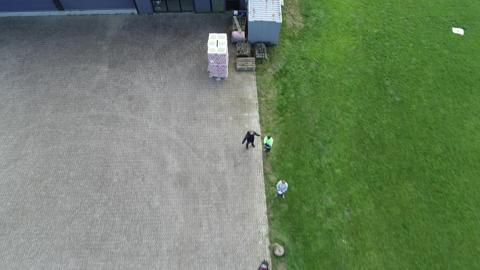RockwoolPallet: (207, 32, 230, 80)
